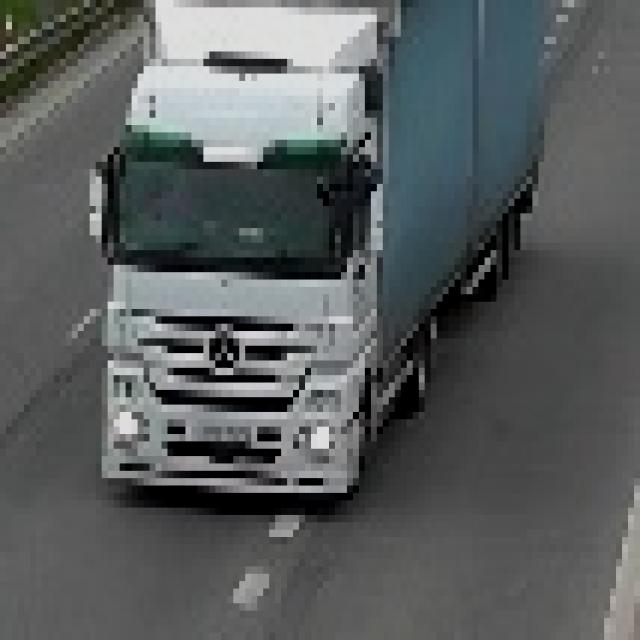TRUCK: (98, 0, 559, 522)
